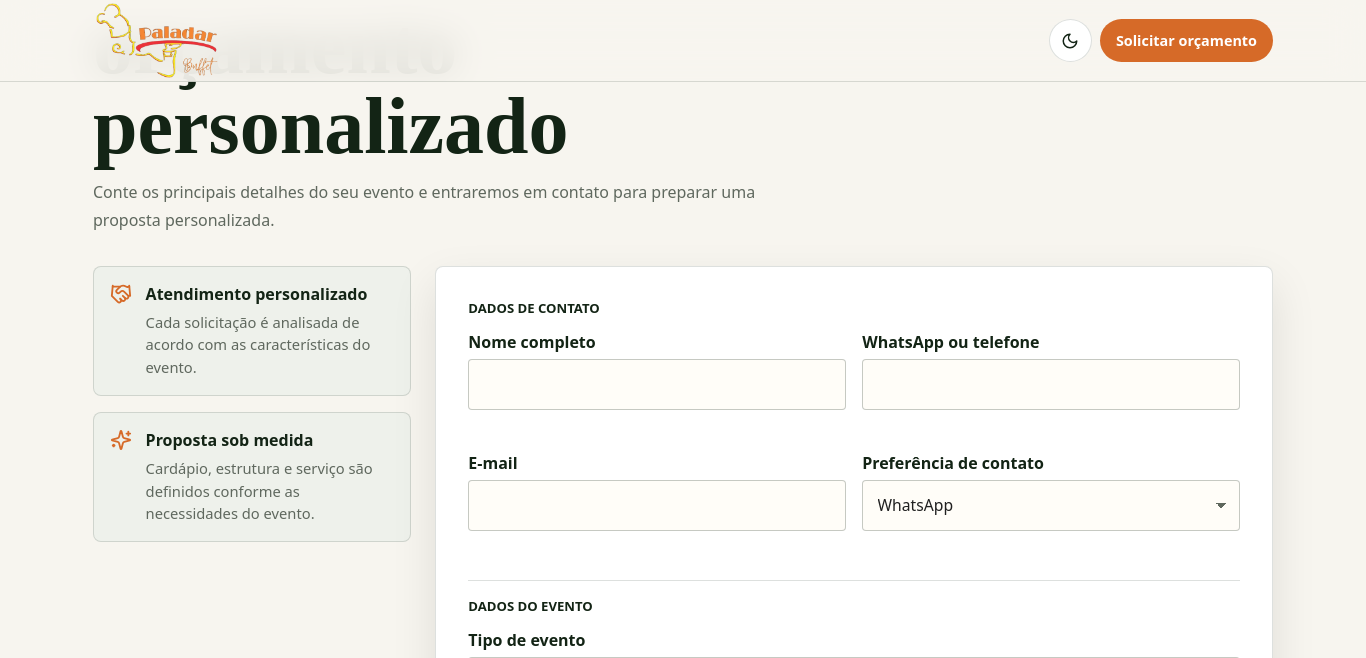
Test: QuotePage › does not expose technical API errors on public submit failures
The width and height of the screenshot is (1366, 658).
(page scrolled)
Type "Andre Vinicius" into the field labelled "Nome completo" at [657, 385], box left=468, top=359, right=846, bottom=410
Type "(61) 98416-3455" into the field labelled "WhatsApp ou telefone" at [1051, 385], box left=862, top=359, right=1240, bottom=410
(page scrolled)
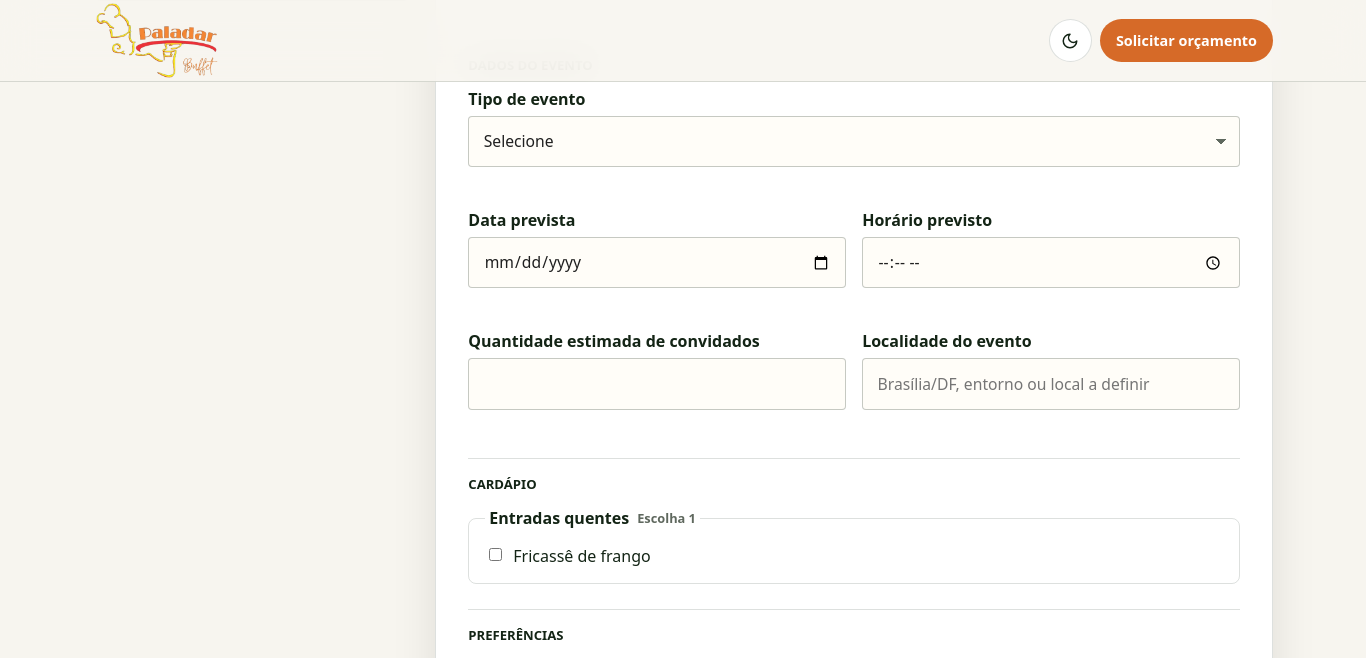
Type "120" into the number field labelled "Quantidade estimada de convidados" at [657, 384], box left=468, top=358, right=846, bottom=410
Type "19:30" into the time field labelled "Horário previsto" at [1051, 263], box left=862, top=237, right=1240, bottom=288
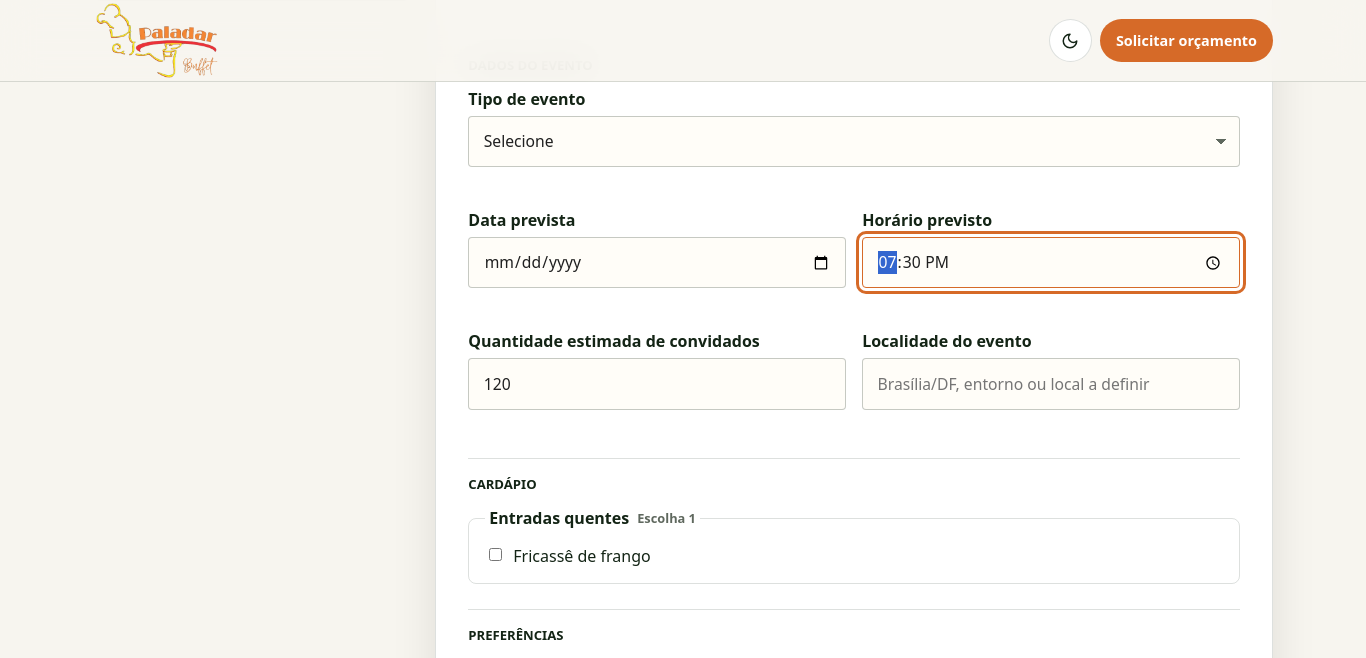
Select "Casamento" in the dropdown labelled "Tipo de evento" at [854, 142], box left=468, top=116, right=1240, bottom=167
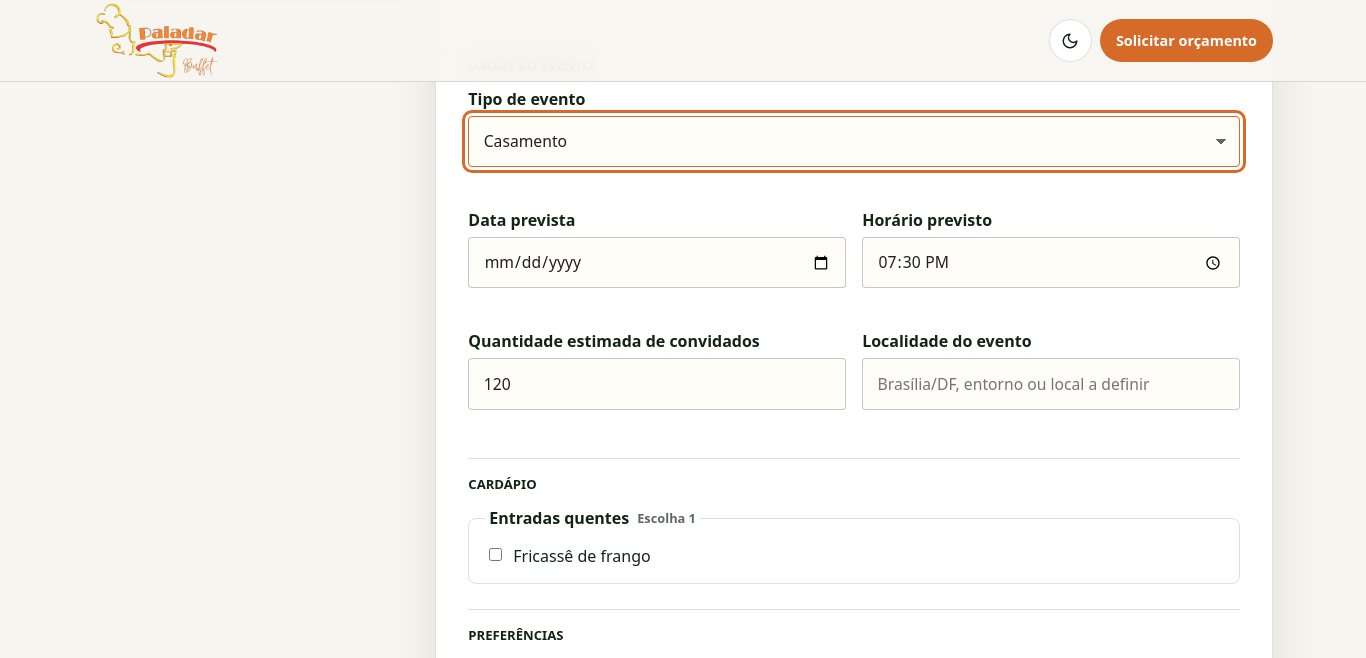
Click the checkbox labelled "Fricassê de frango" at [496, 555], box left=489, top=548, right=502, bottom=561
(page scrolled)
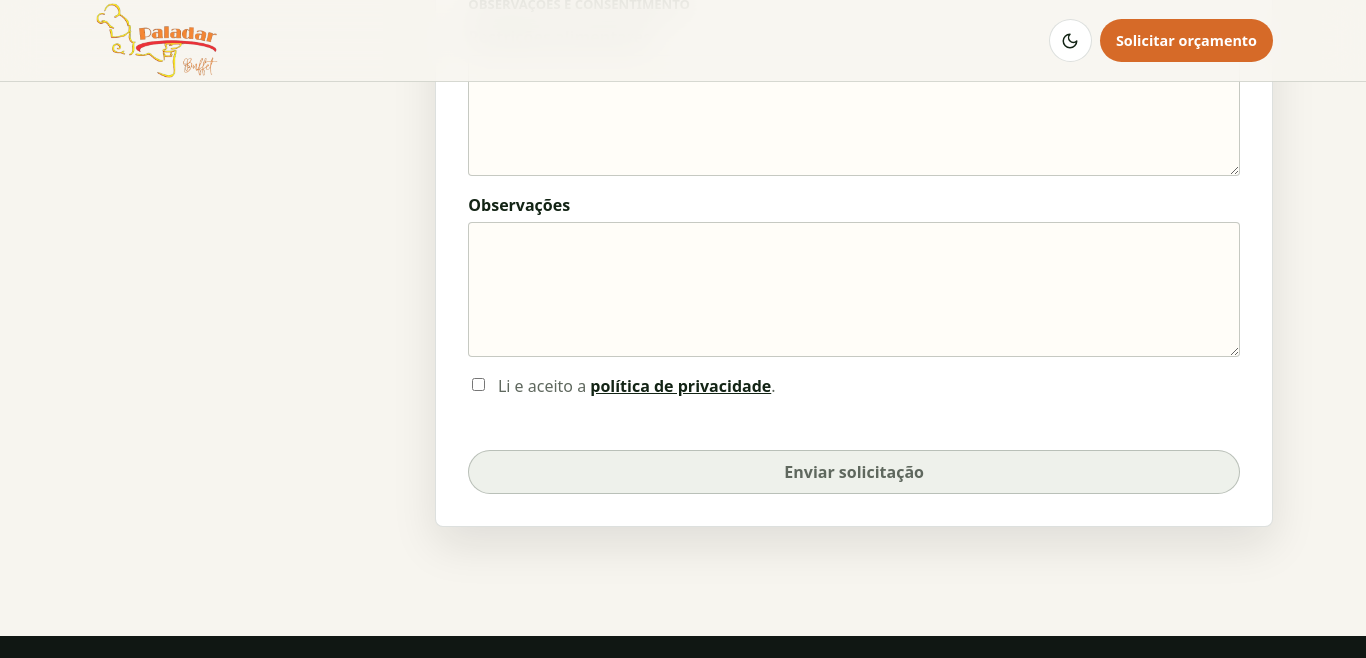
Click the checkbox labelled "Li e aceito a política de privacidade ." at [479, 384], box left=472, top=378, right=485, bottom=391
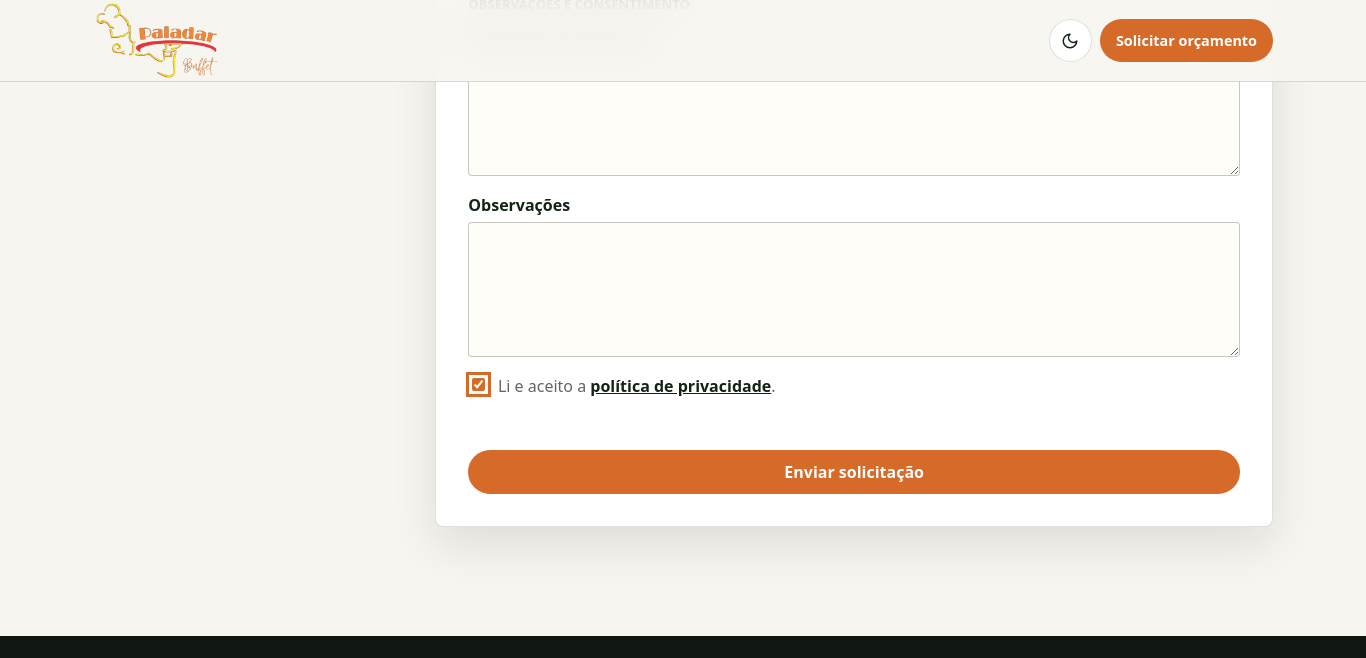
Click the button "Enviar solicitação" at [854, 472], box left=468, top=450, right=1240, bottom=494
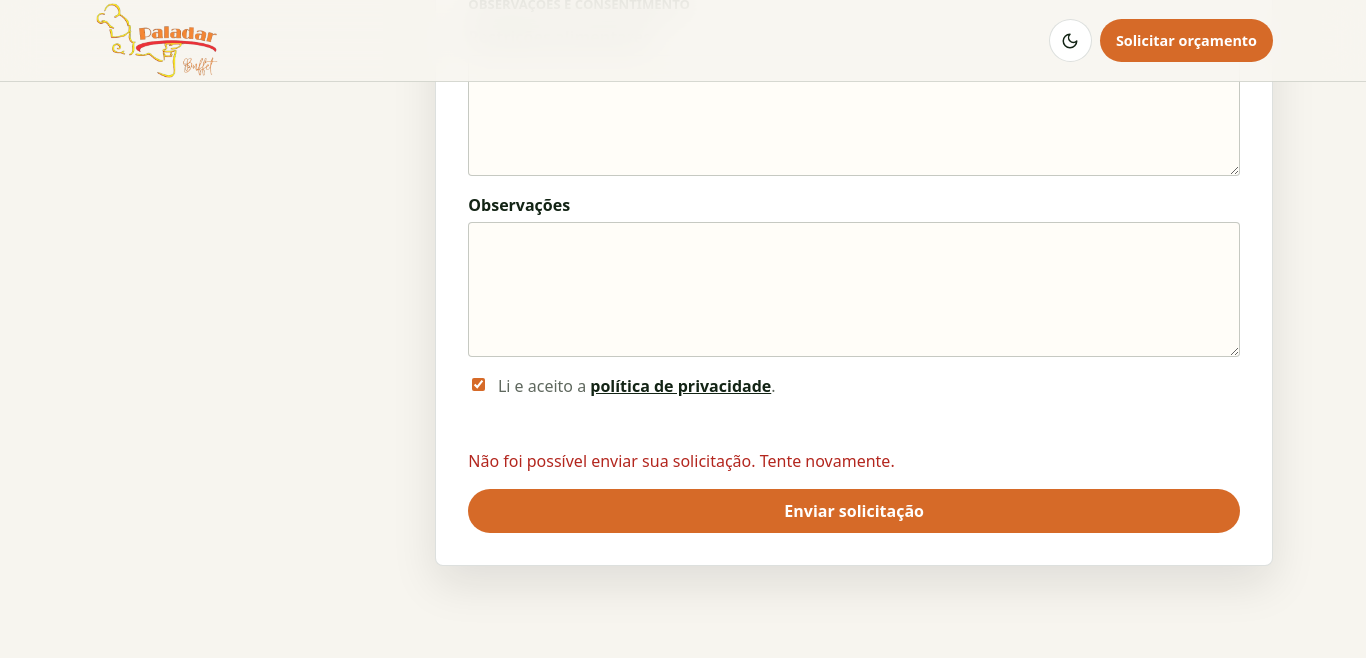
Result: the text "Não foi possível enviar sua solicitação. Tente novamente." is shown at left=468, top=450, right=895, bottom=472
